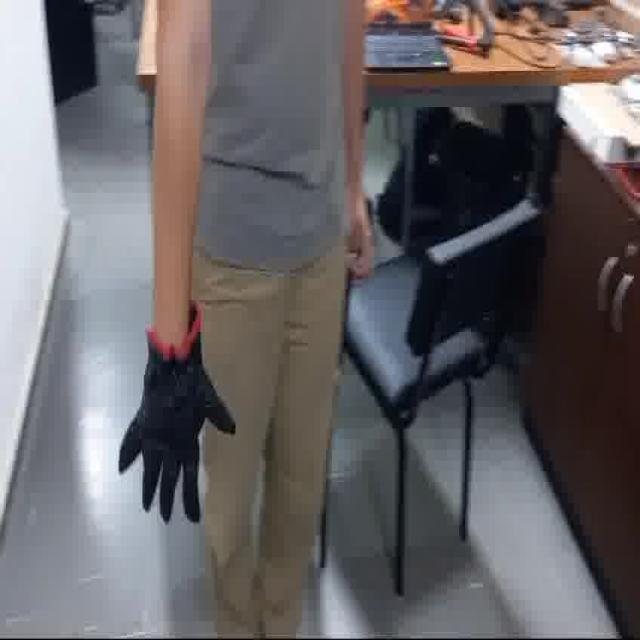Gloves: (117, 300, 236, 529)
